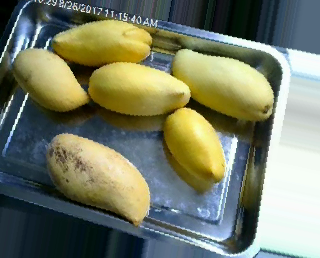Mango: (43, 130, 154, 230), (170, 43, 277, 125), (85, 60, 191, 117), (10, 45, 96, 114), (160, 105, 228, 185), (49, 17, 151, 67)
